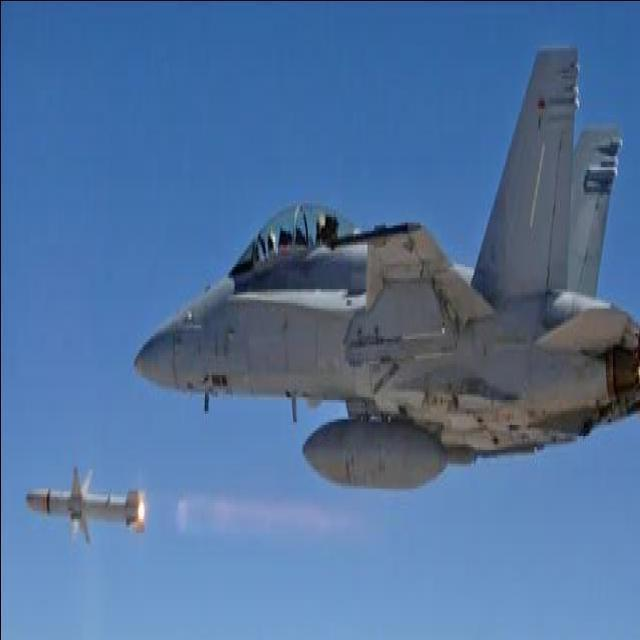missile: (22, 467, 146, 541)
